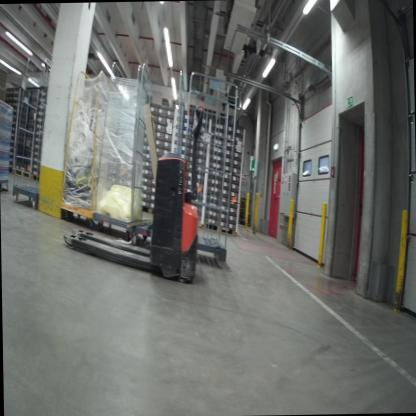pallet: (203, 220, 237, 238), (8, 163, 28, 179), (139, 200, 154, 221), (28, 169, 44, 182)
pallet_truck: (56, 86, 214, 292)
